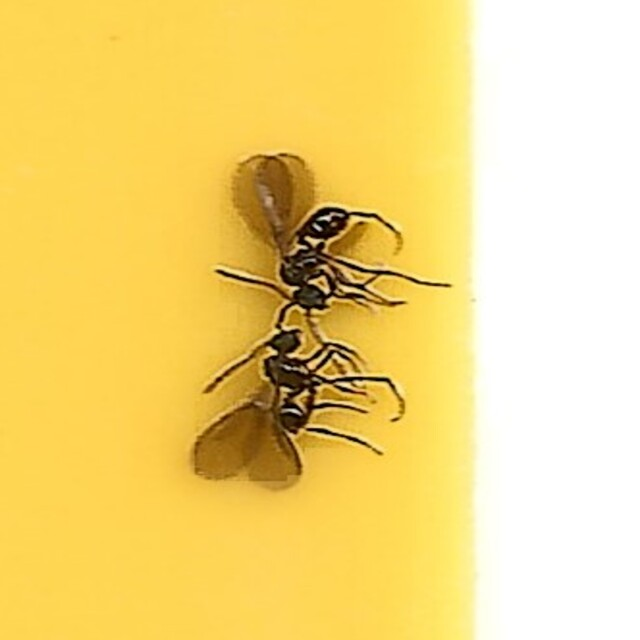Hymenoptera: (214, 151, 447, 316), (193, 322, 403, 489)
